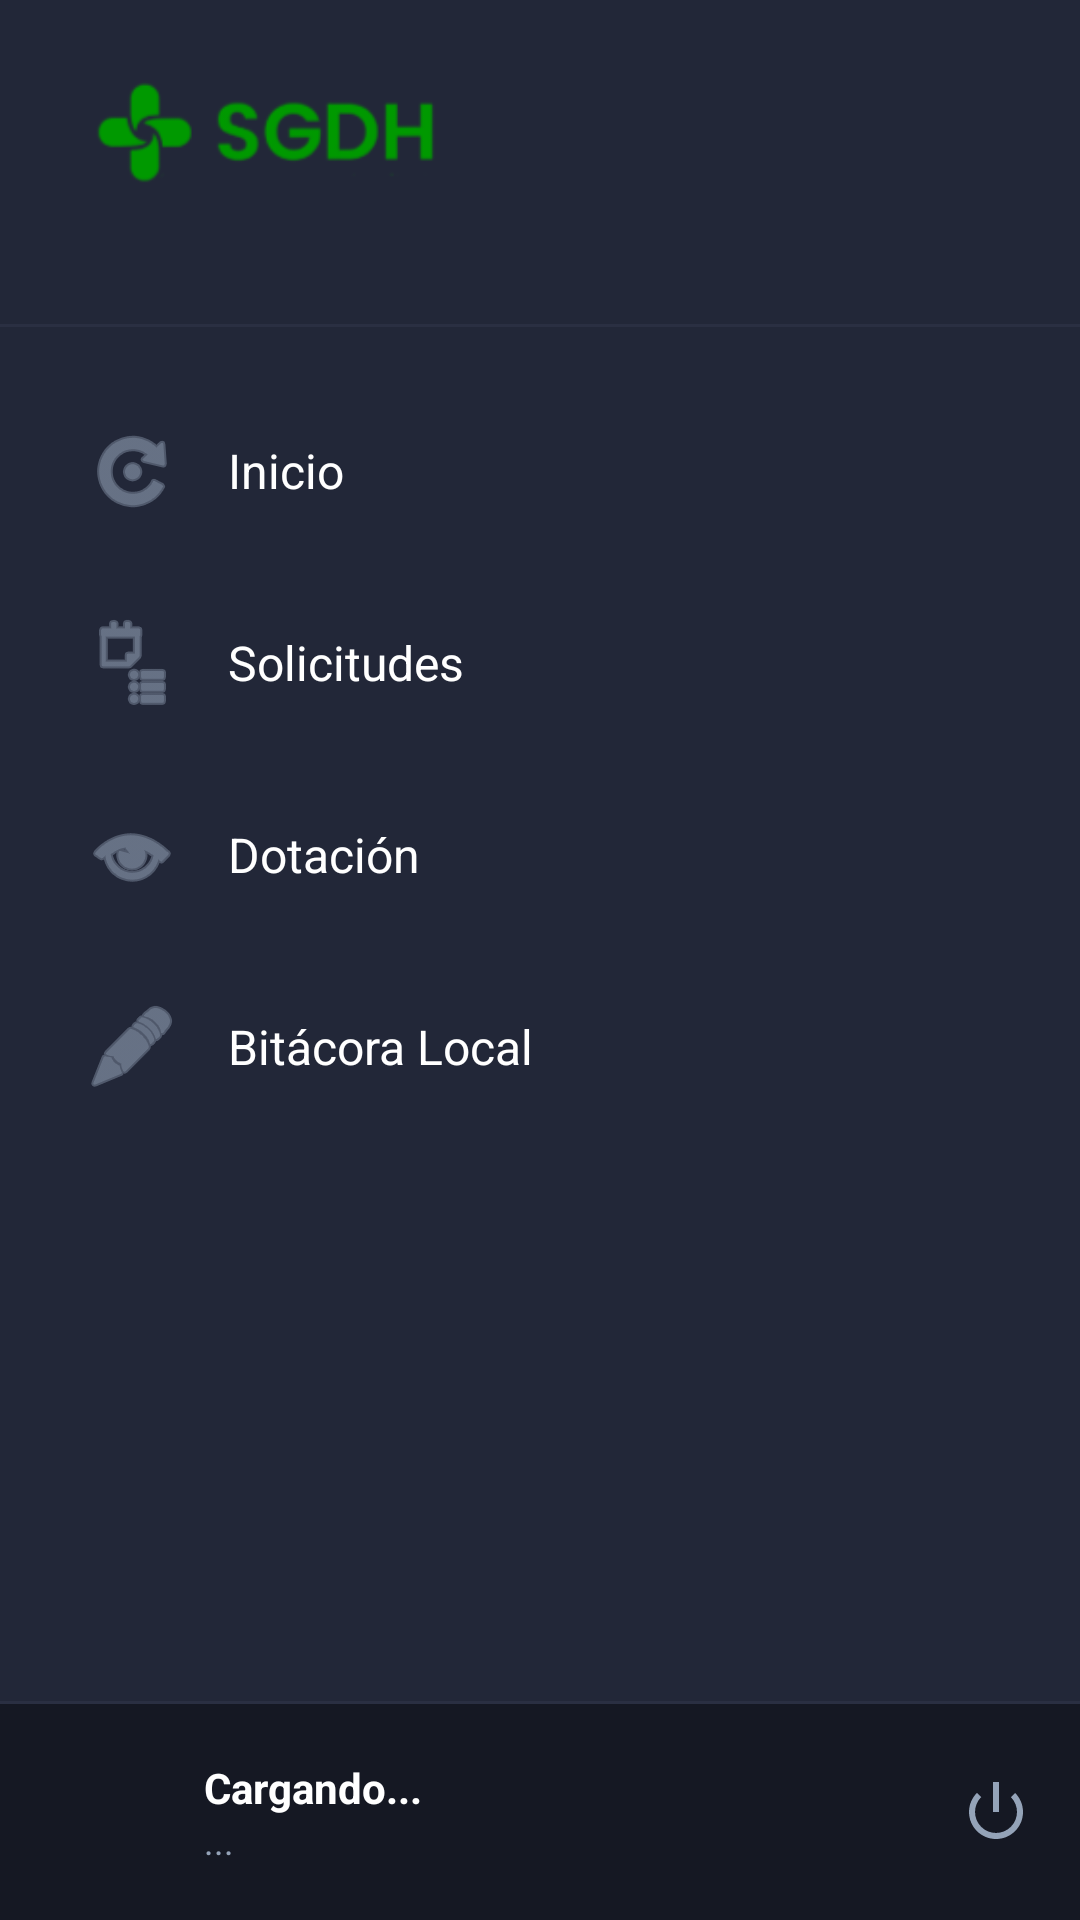

Named icons in this screenshot (1080 × 1920) and their bounding boxes, (x1, y1, x2, y2):
lock power off: (969, 1782, 1023, 1839)
